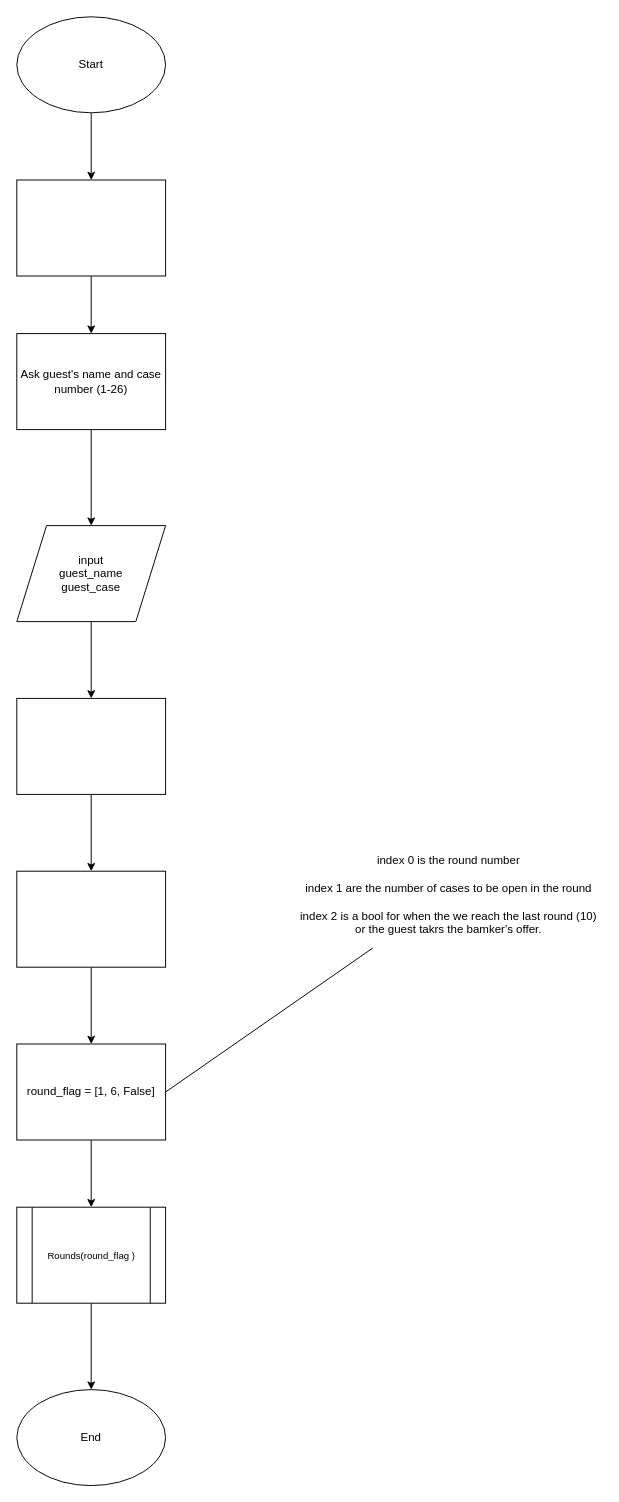
Image size: 619x1502. Some labels were removed from this diagram. Each missing label, with the box of its shape:
Declare guest_name guest_case: (16, 179, 166, 276)
game1 = deal_or_no(guest_case, guest_name): (16, 697, 166, 794)
Remove Guest's case from selection: (16, 870, 166, 967)
